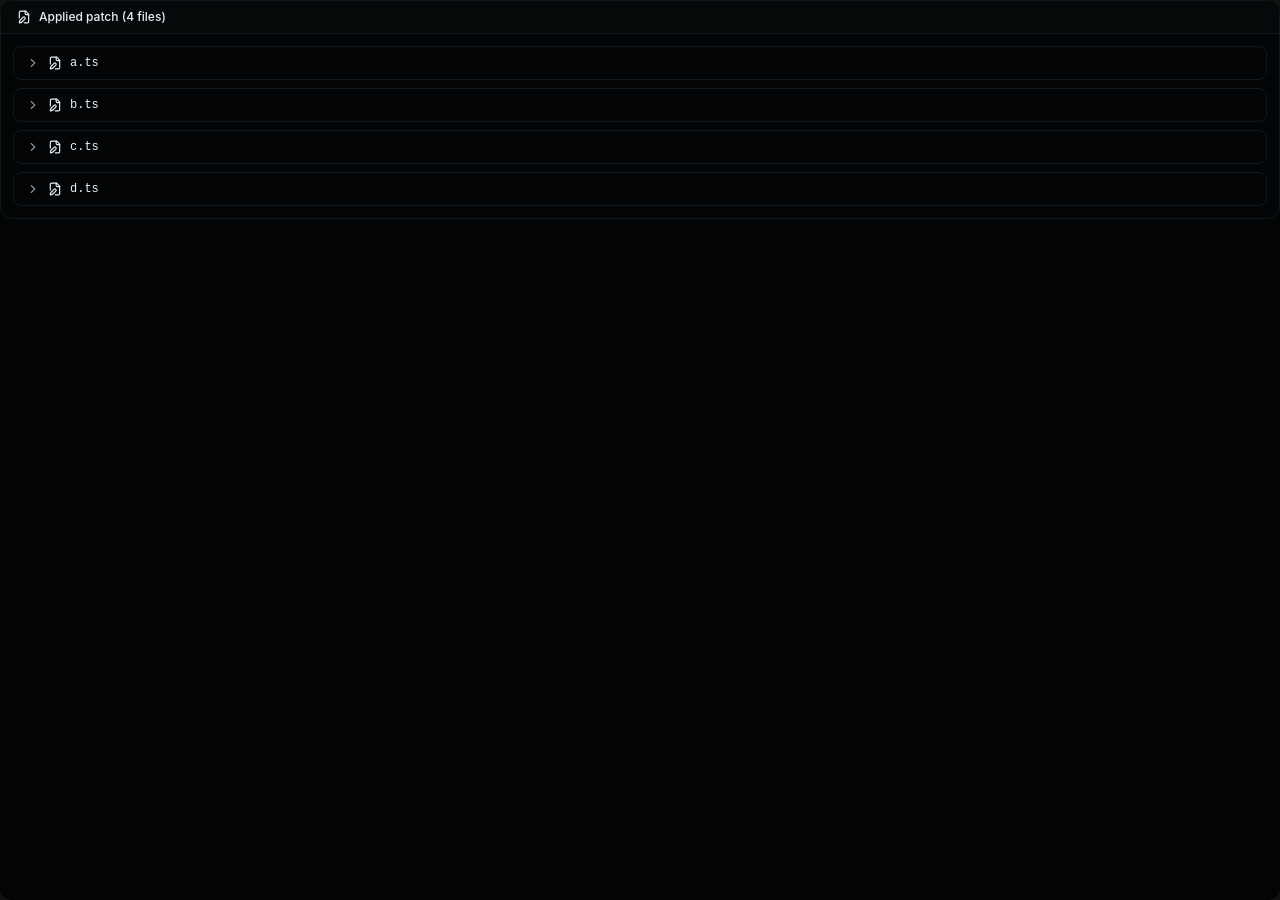
ApplyPatchItem › expands a collapsed file block on click
Click the button "a.ts" at (33, 63), box [14,47,1266,79]
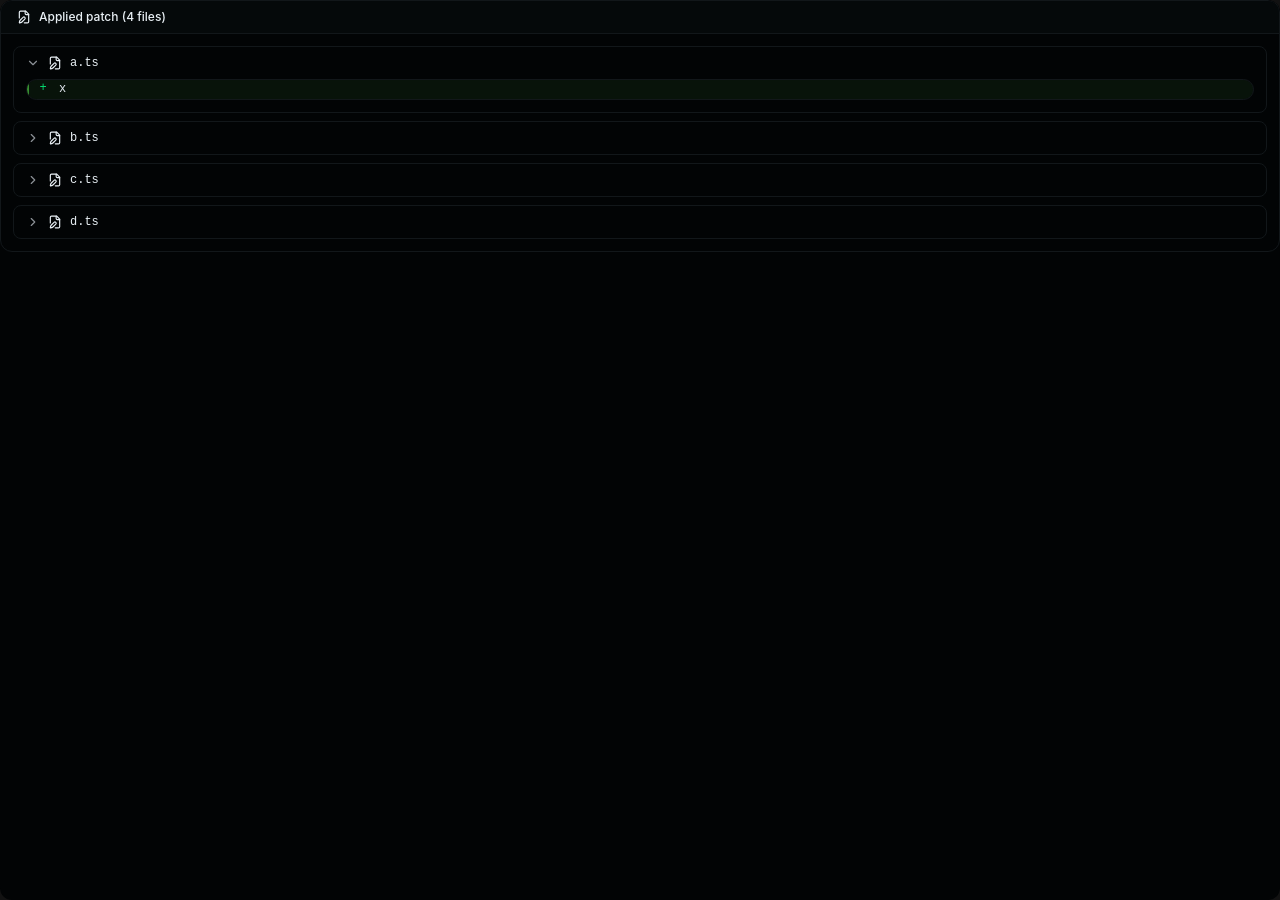
Expected: the button "a.ts" is expanded, [14,47,1266,79]
